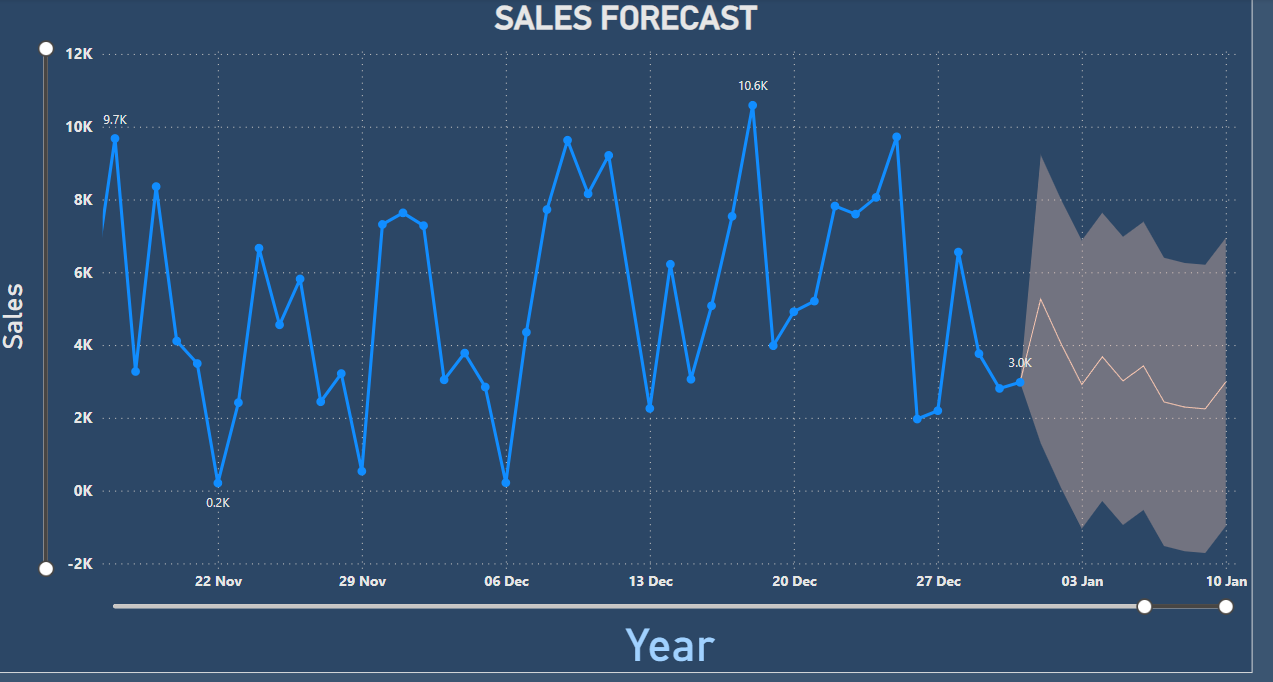

The page's visual inventory and layout, read from the dashboard file:
{"tool":"powerbi","page":{"name":"Page 2","canvas":[1280,720],"ordinal":1},"visuals":[{"type":"lineChart","title":"SALES FORECAST","fields":{"Y":["Sum(SuperStore_Sales_Dataset.Sales)"],"Category":["SuperStore_Sales_Dataset.Order Date.Variation.Date Hierarchy.Year","SuperStore_Sales_Dataset.Order Date.Variation.Date Hierarchy.Quarter","SuperStore_Sales_Dataset.Order Date.Variation.Date Hierarchy.Month","SuperStore_Sales_Dataset.Order Date.Variation.Date Hierarchy.Day"]},"box":[10,0,1210,651.4],"z":0}]}

Visuals, with their boxes on the page's 1280x720 design canvas (x1, y1, x2, y2). These are canvas units, not pixel positions in the 1273x682 screenshot, which may show the page scaled, cropped or inside an application window:
"SALES FORECAST" lineChart: detection(10, 0, 1220, 651)
